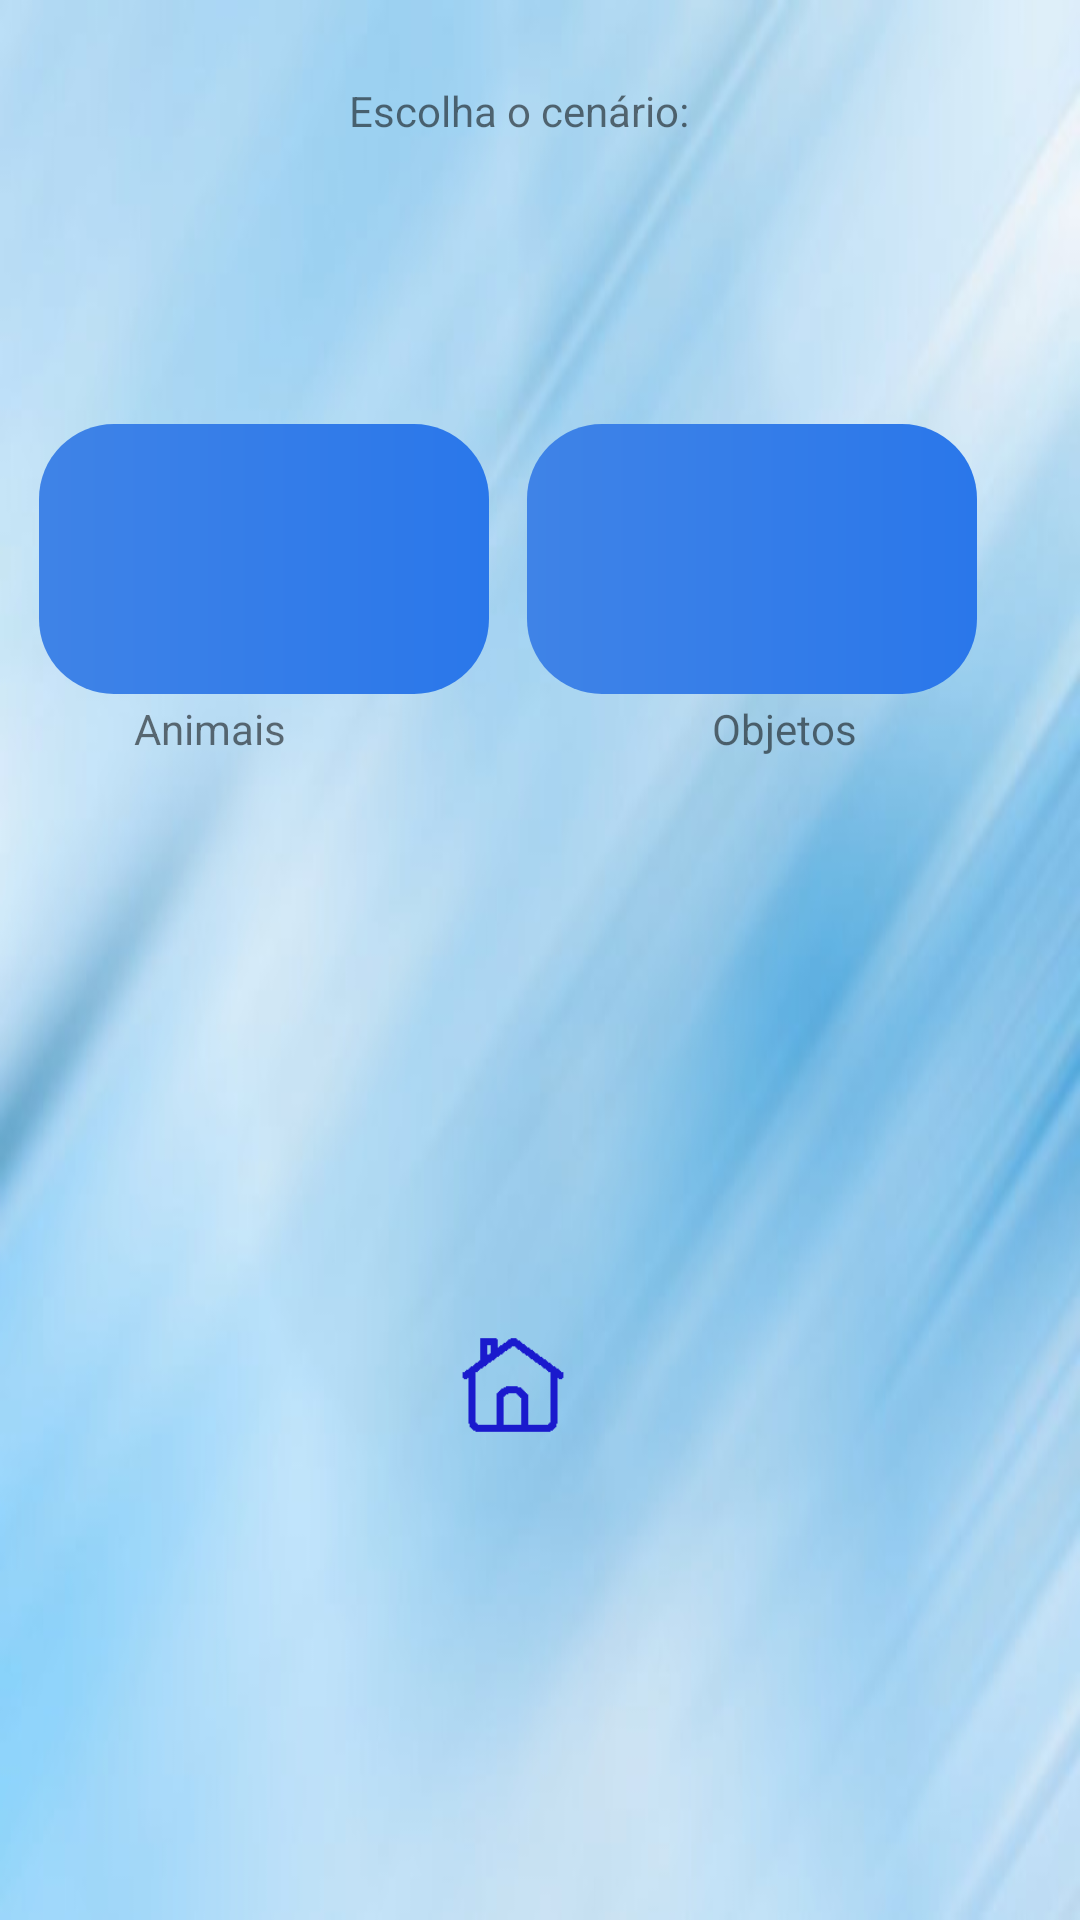

Point at icon controls on the screen. Image size 1080px×1920px, points as (x,y).
homepress: (513,1385)
